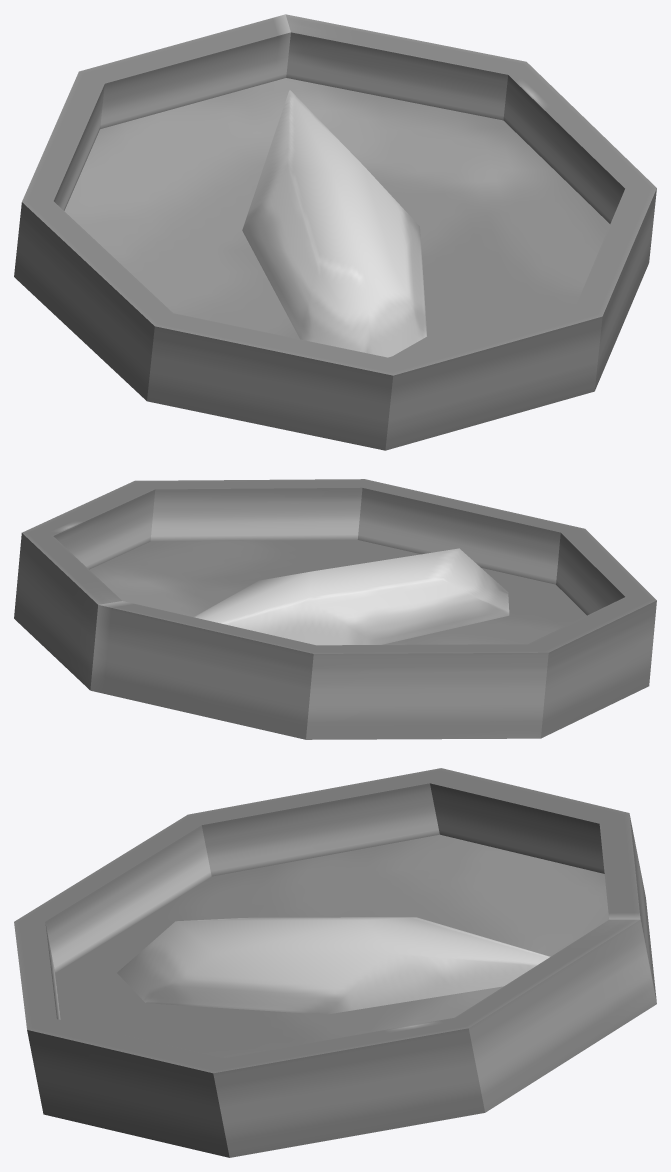
File: stopwatch.fbx
3 renders of one model, top to bottom at view 1: azimuth 30°, elevation 25°; view 2: azimuth 150°, elevation 25°; view 3: azimuth 270°, elevation 25°, orthographic. The views are drawn at different scales.
Visible parts, largest first — view 1: COLOR2, COLOR1; view 2: COLOR2, COLOR1; view 3: COLOR2, COLOR1.
Boxes of the visible parts, bbox=[...] form: COLOR2: bbox=[14, 14, 656, 450]; COLOR1: bbox=[242, 90, 426, 357]; COLOR2: bbox=[14, 479, 656, 739]; COLOR1: bbox=[194, 548, 509, 645]; COLOR2: bbox=[14, 768, 656, 1157]; COLOR1: bbox=[117, 917, 550, 1014].
Size of the model in its own units: 169 by 54.19 by 171.
1 material, 1 textured.
